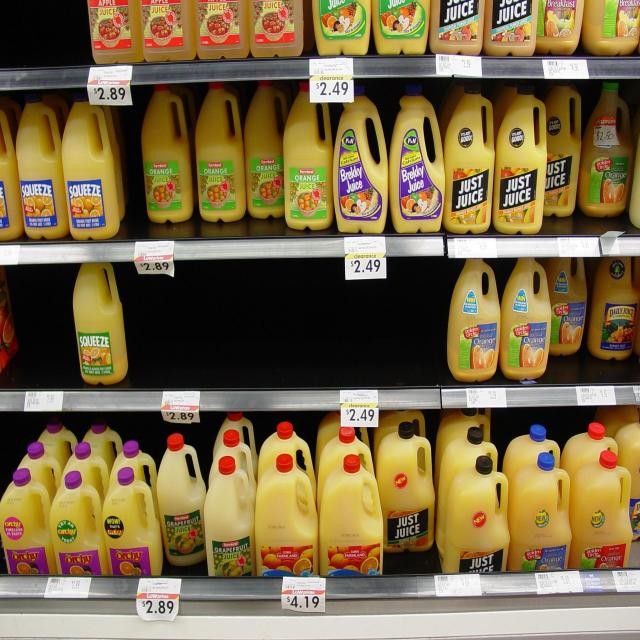void: (132, 276, 446, 386), (15, 267, 74, 384), (3, 5, 88, 67), (556, 351, 640, 386)
